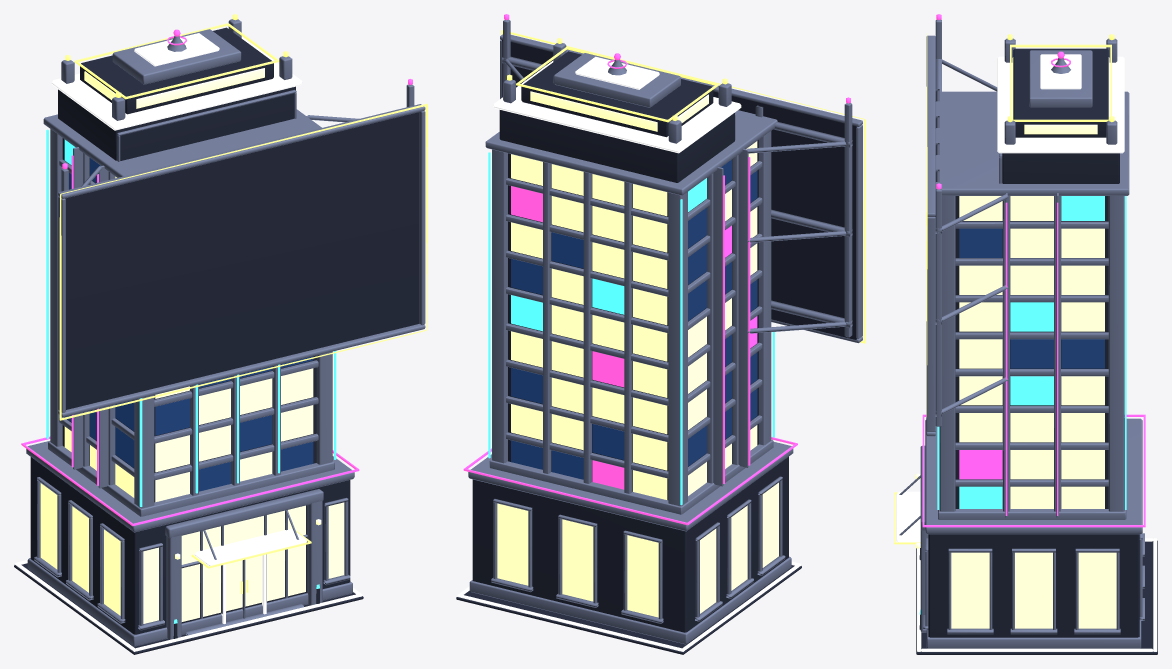
The model's file is lot4_tower.glb.
3 views of the same model, side by side, from view 1: azimuth 30°, elevation 25°; view 2: azimuth 150°, elevation 25°; view 3: azimuth 270°, elevation 25° (orthographic).
Parts seen in each view (by area): view 1: Lot; view 2: Lot; view 3: Lot.
Part boxes in pixels (x1=…): Lot: x1=14, y1=14, x2=427, y2=654; Lot: x1=456, y1=14, x2=865, y2=654; Lot: x1=894, y1=14, x2=1157, y2=654.
Size of the model in its own units: 13.41 by 19 by 8.3.
